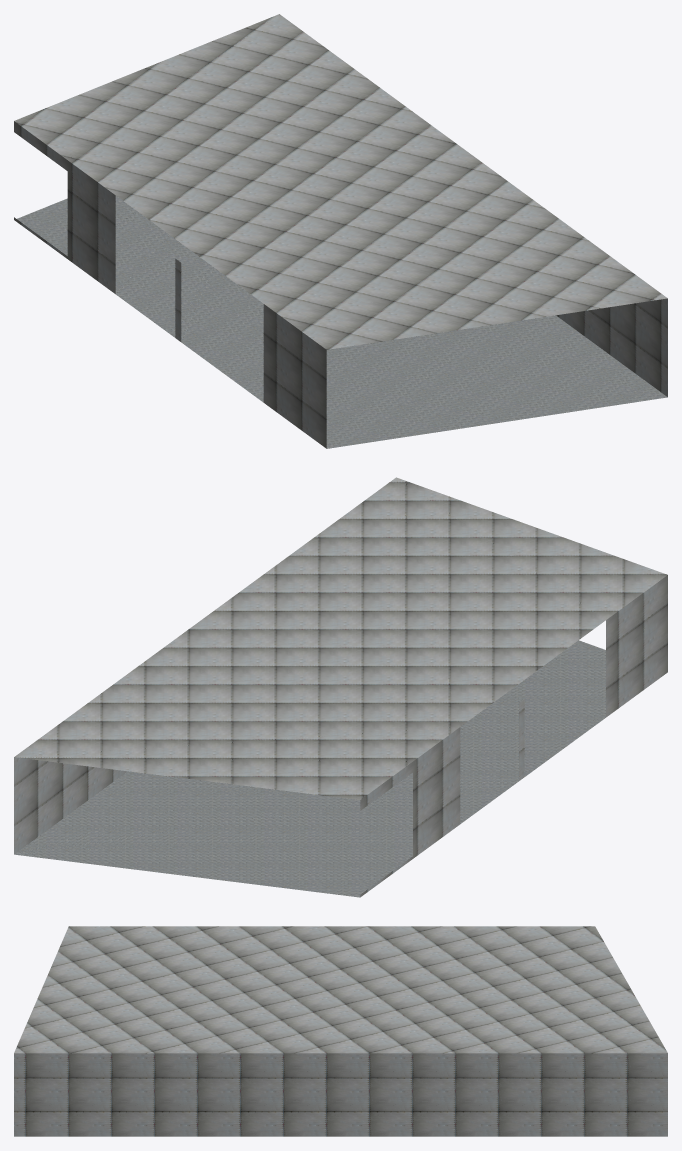
Rendered from south3.FBX.
3 views of the same model, one above another, from view 1: azimuth 30°, elevation 25°; view 2: azimuth 150°, elevation 25°; view 3: azimuth 270°, elevation 25° (orthographic). The views are drawn at different scales.
Parts seen in each view (by area): view 1: Plane001; view 2: Plane001; view 3: Plane001.
Part boxes in pixels (<box>): Plane001: <box>14,14,667,448</box>; Plane001: <box>14,477,667,897</box>; Plane001: <box>14,926,667,1136</box>.
Bounding box in the file's own units: 242 × 74.14 × 527.
2 materials, 2 textured.
